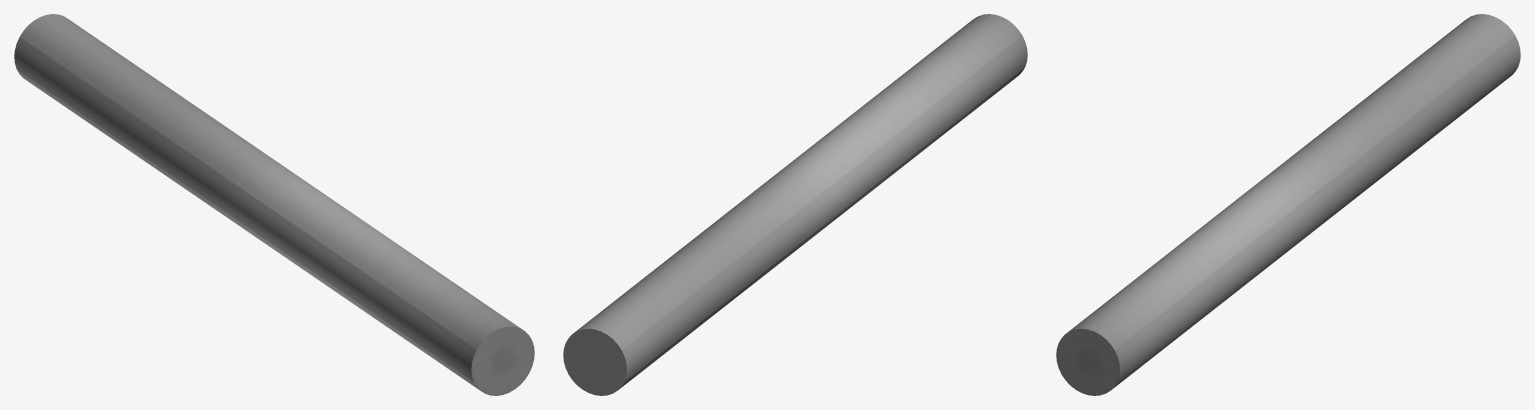
The model's file is antenna_right_inner__main_mast.glb.
3 renders of one model, left to right at view 1: azimuth 30°, elevation 25°; view 2: azimuth 150°, elevation 25°; view 3: azimuth 330°, elevation 25°, orthographic. The views are drawn at different scales.
Visible parts, largest first — view 1: world; view 2: world; view 3: world.
Part boxes in pixels (box(x1,y1,x2,y2)): world: box(14, 14, 534, 395); world: box(563, 14, 1027, 395); world: box(1056, 14, 1520, 395).
Size of the model in its own units: 0.013 by 0.0096 by 0.1122.
1 material, 1 textured.
